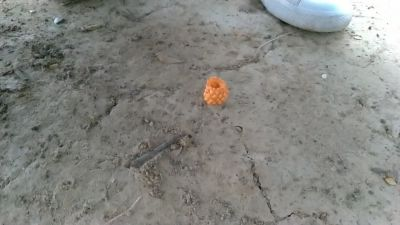eggs: (205, 74, 227, 107)
